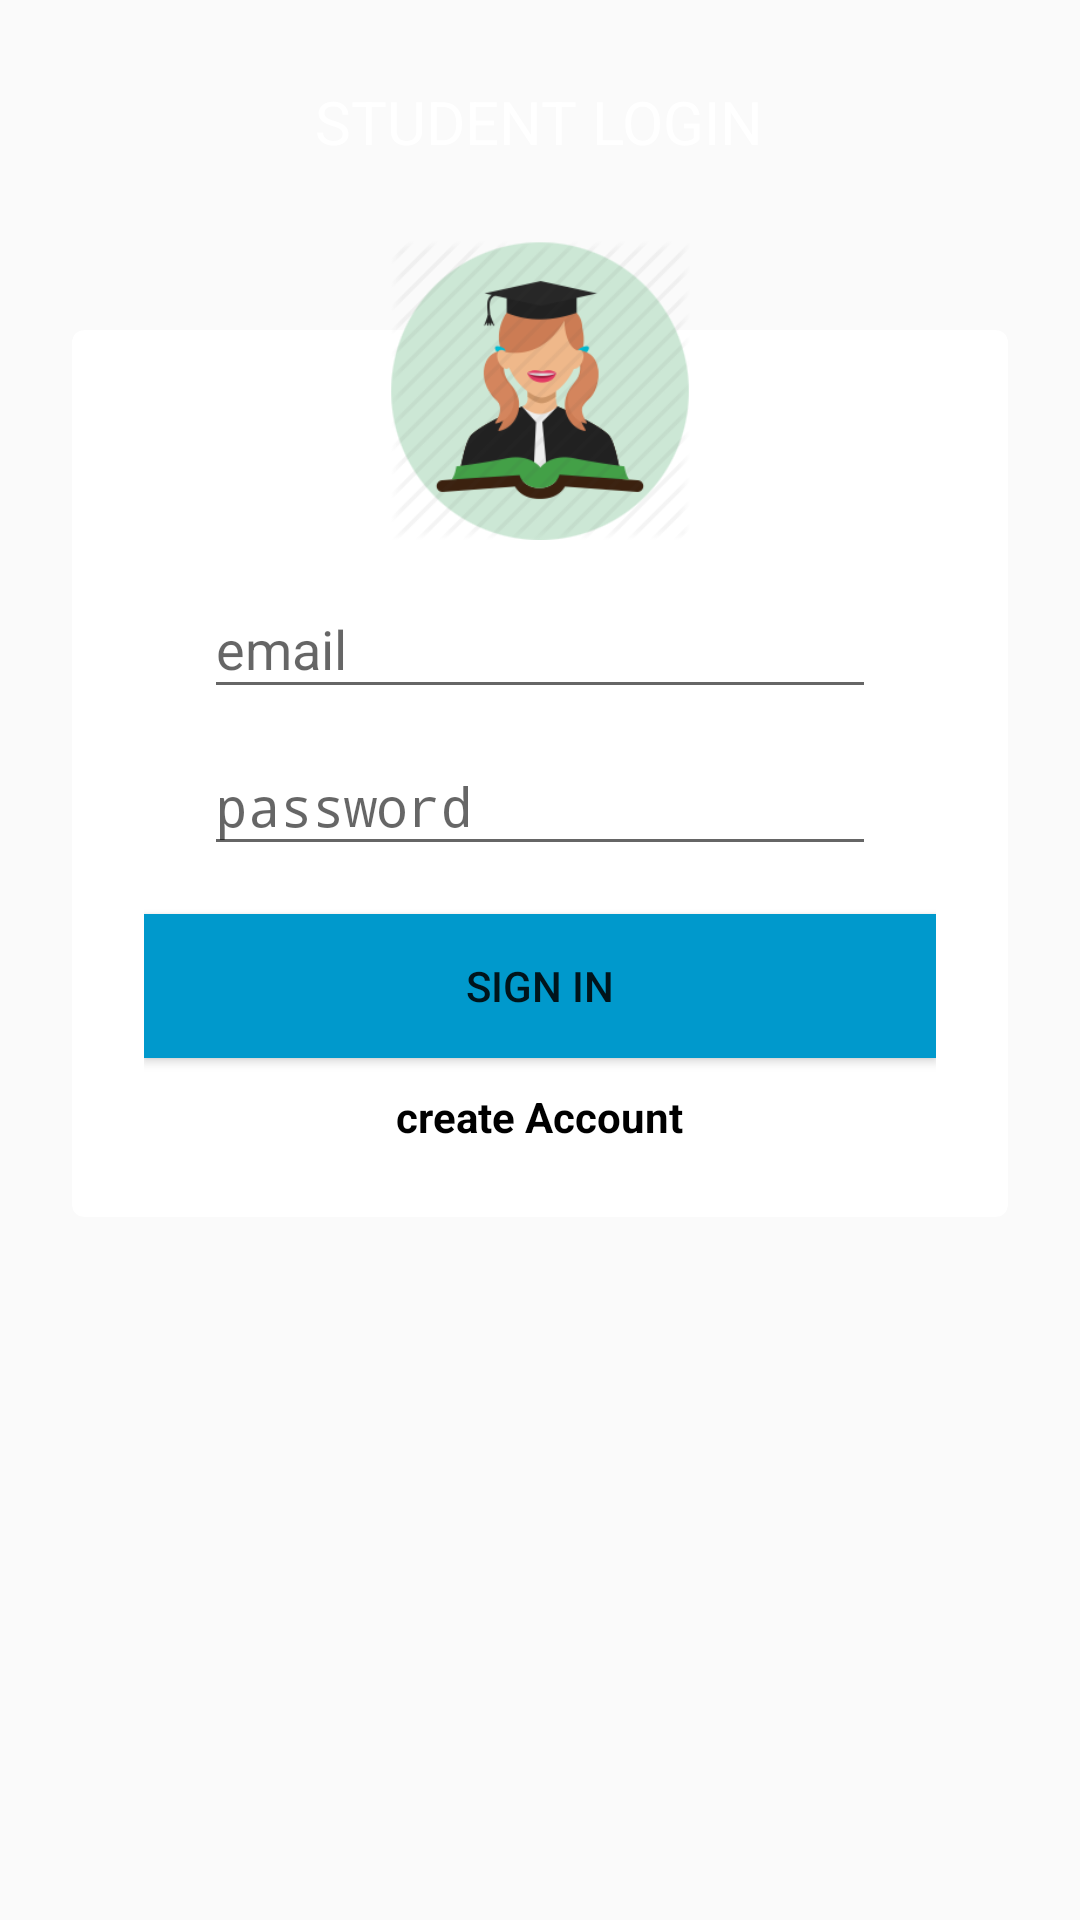

Icons on this 1080w x 1920h Android screen, each with its box as detection(x1, y1, x2, y2):
user: detection(391, 242, 689, 540)
